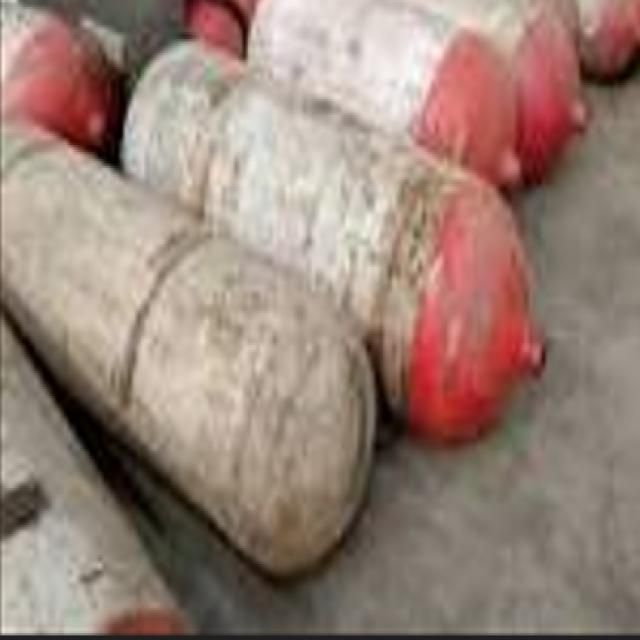cylinder: (122, 38, 548, 442)
